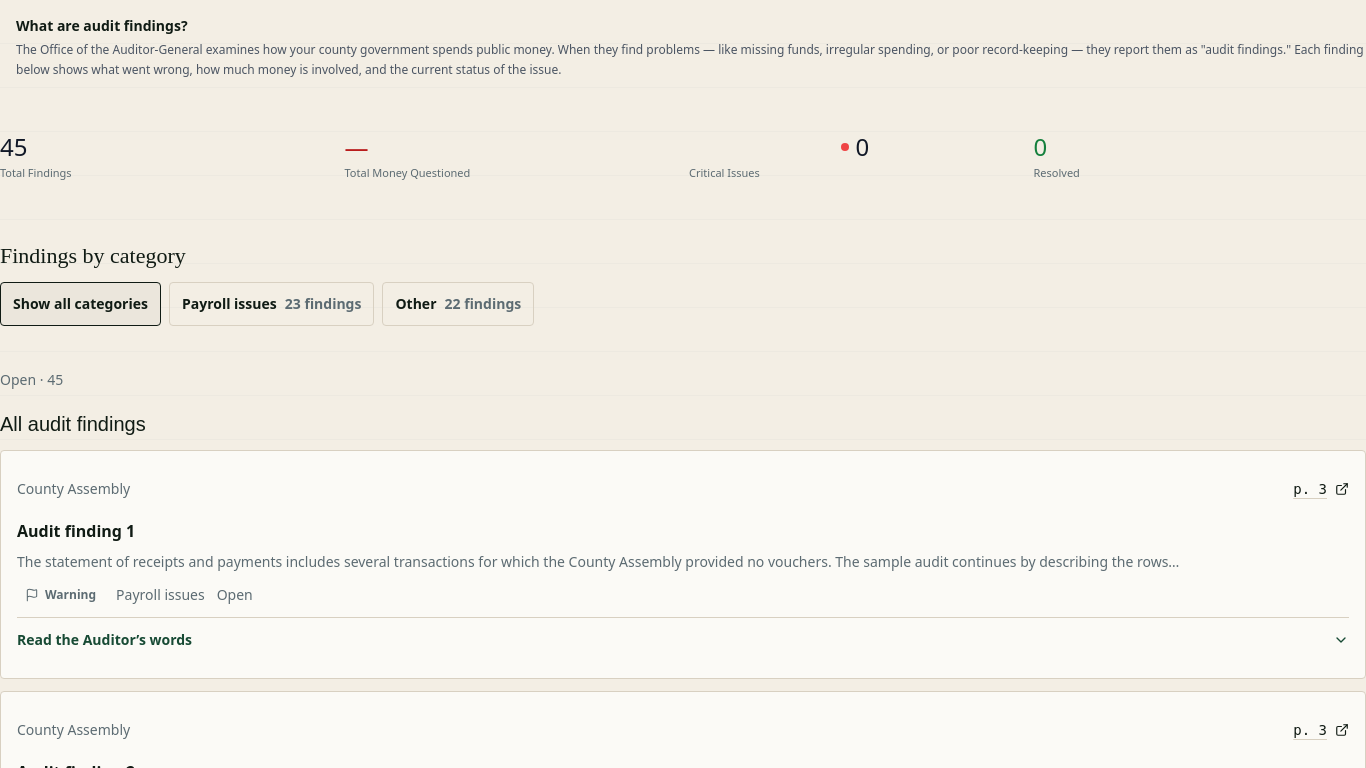
applies the category before slicing and resets the count when changing categories
This screenshot has width=1366, height=768.
Click the button "Payroll issues 23 findings". click: (272, 304)
box: [169,282,374,326]
(page scrolled)
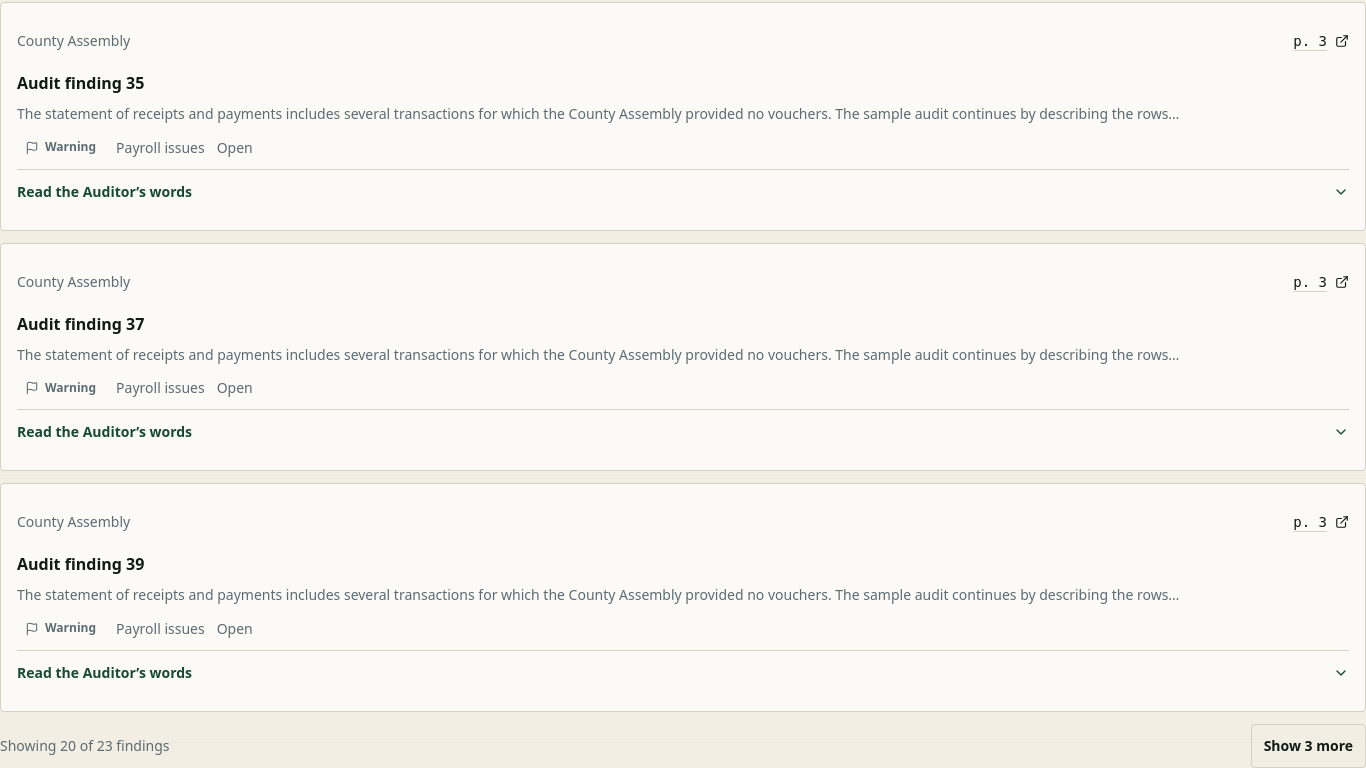
expect the message reads "Showing 20 of 23 findings": met, box [0,736,170,755]
Click the button "Show 3 more". click: (1308, 746)
box: [1251,724,1365,767]
(page scrolled)
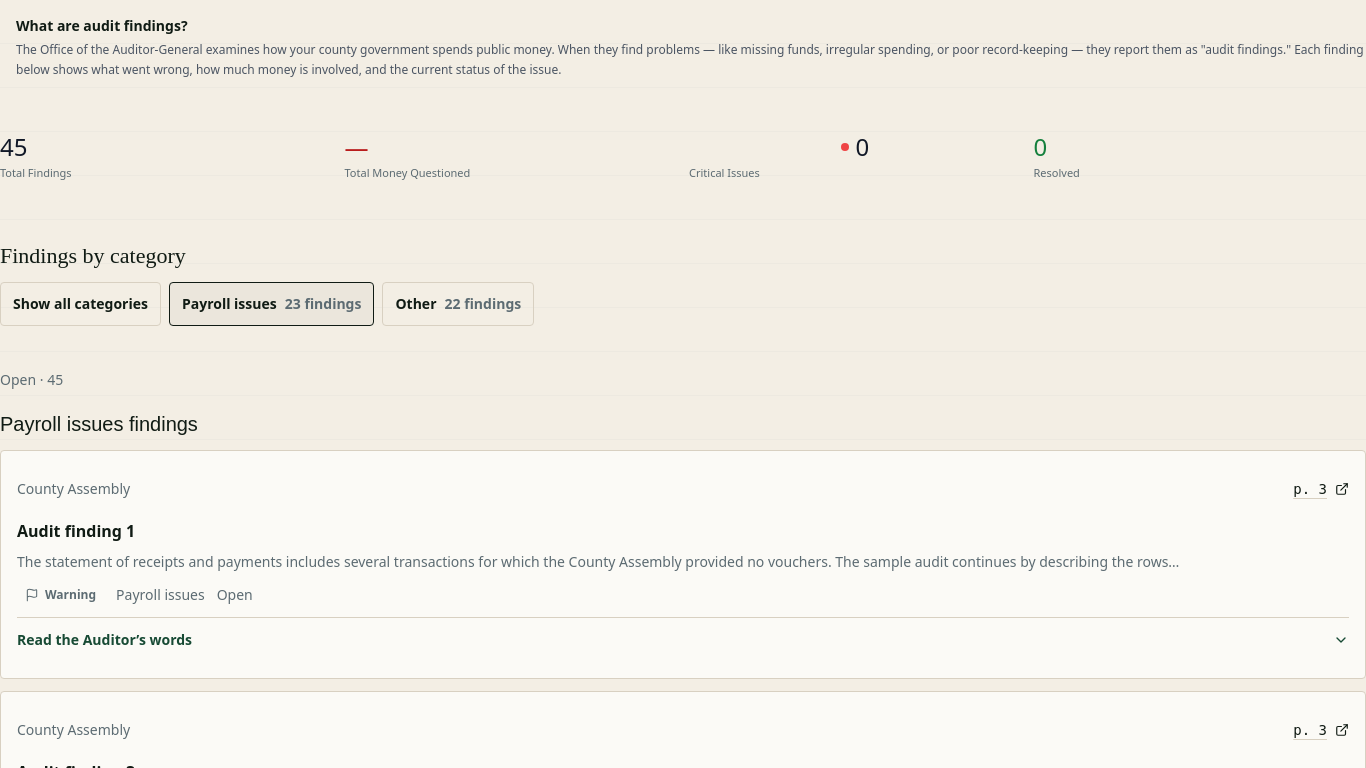
Click the button "Show all categories". click: (80, 304)
box: [0,282,161,326]
(page scrolled)
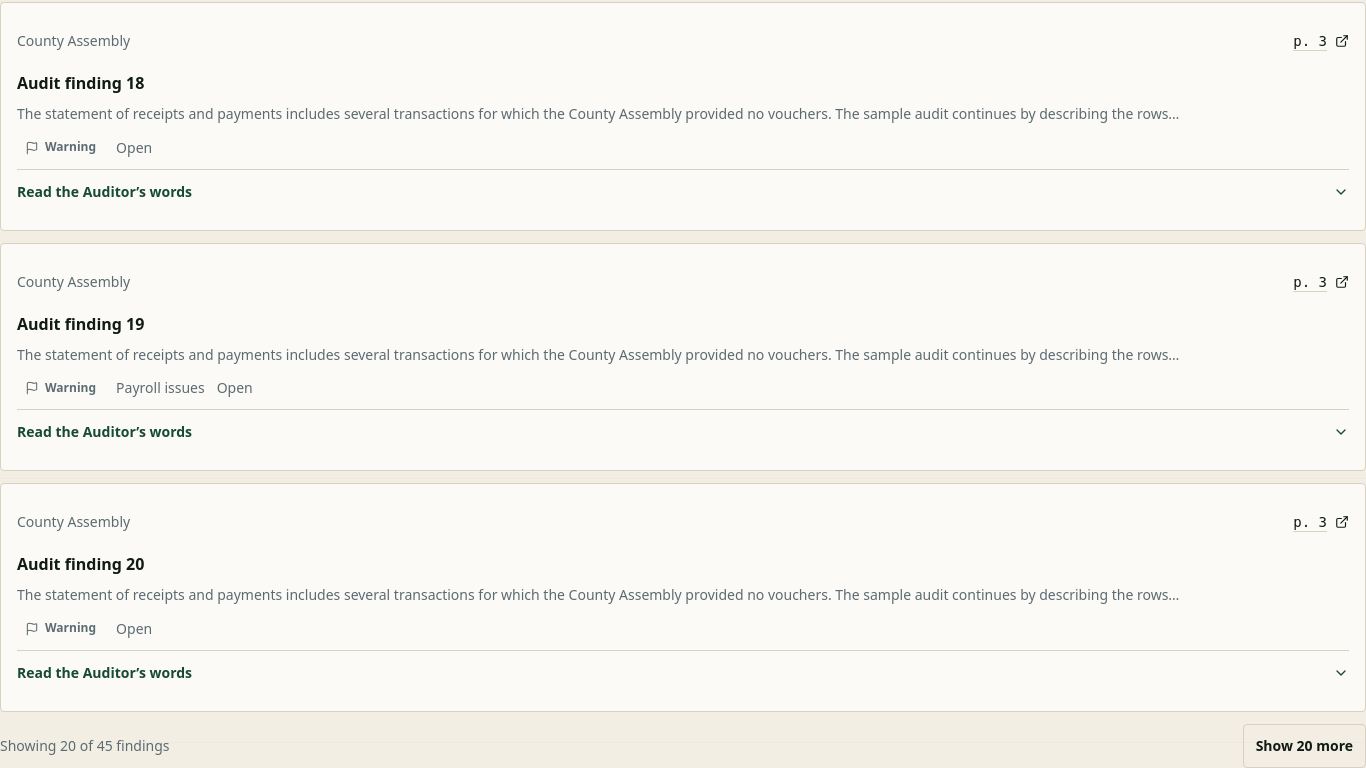
expect the message reads "Showing 20 of 45 findings": met, box [0,736,170,755]
